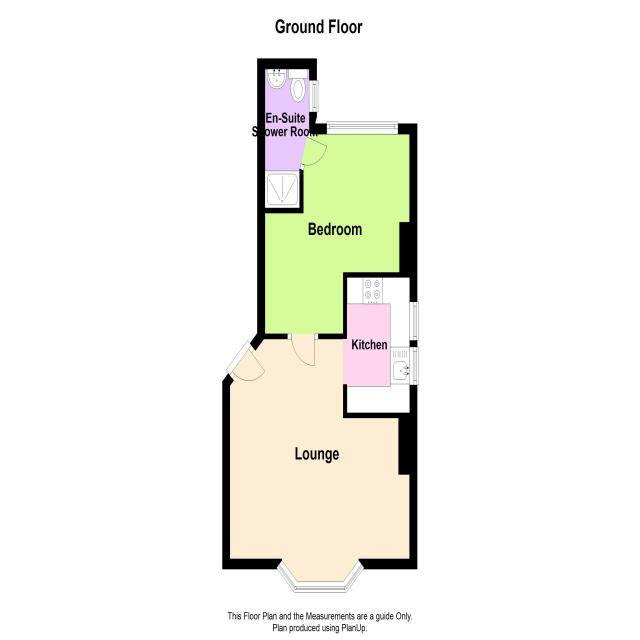DOOR: (226, 340, 265, 382), (300, 132, 328, 170), (287, 334, 318, 367)
ROOM: (257, 123, 417, 370)
WINDOW: (273, 558, 367, 596), (326, 120, 399, 136), (409, 300, 420, 342), (409, 346, 420, 387), (308, 79, 320, 113)
